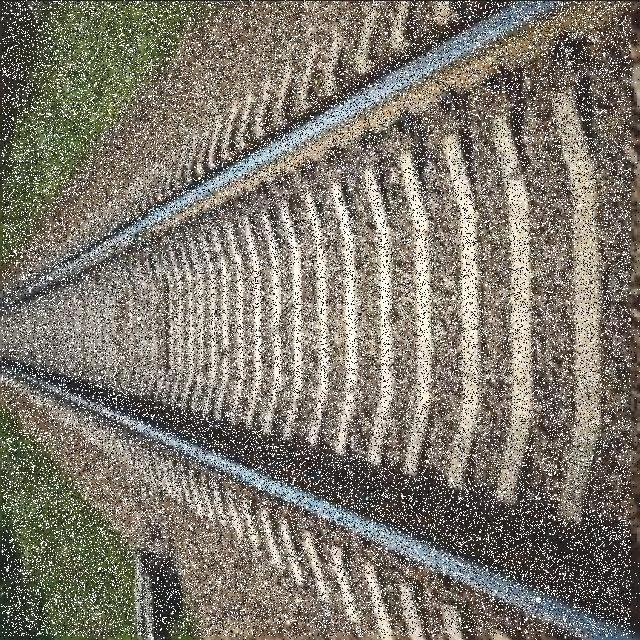rail: (3, 2, 632, 637)
